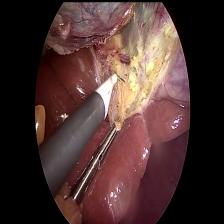Grasper: (67, 113, 123, 206)
Hook: (93, 61, 128, 117)
